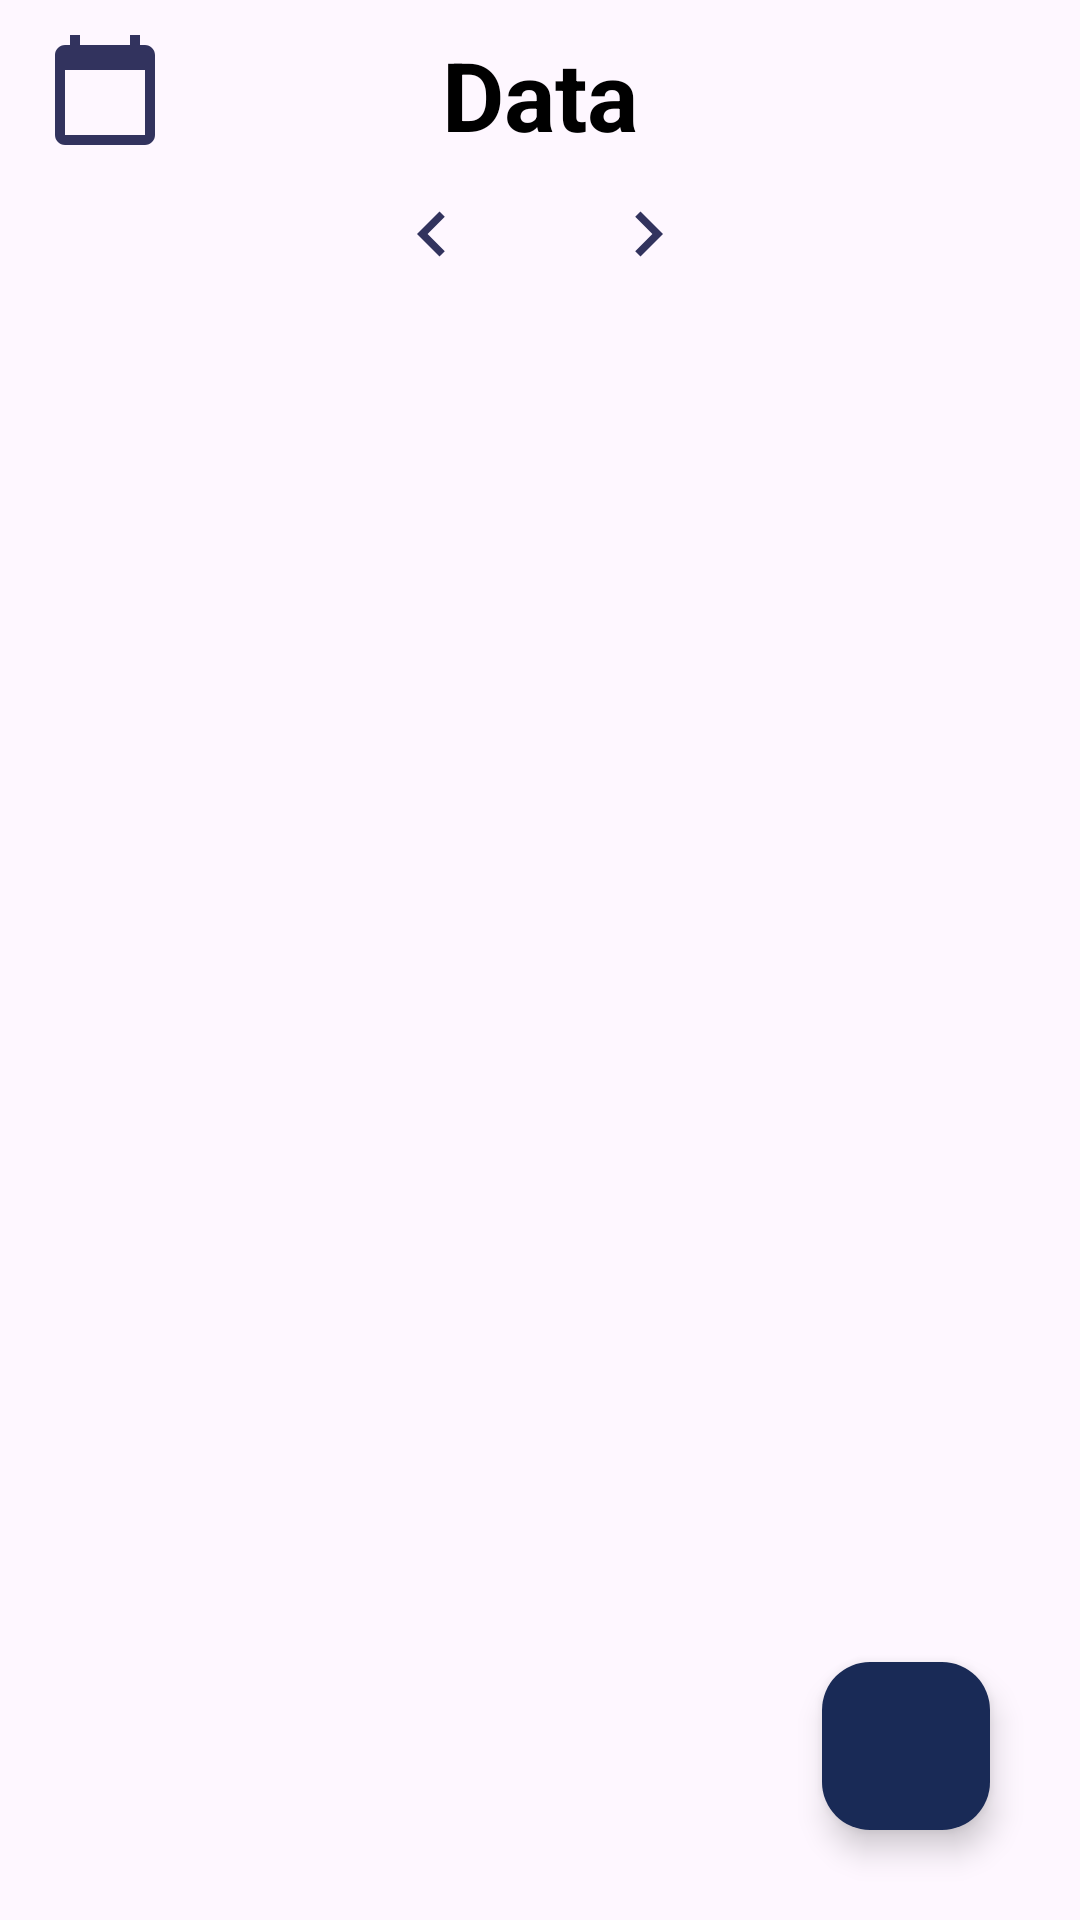

Icon bounding boxes for this 1080x1920 phone screenshot, format (x1, y1, x2, y2):
Calendar Icon: (55, 35, 155, 145)
Next Day: (635, 211, 663, 257)
Previous Day: (417, 211, 445, 257)
